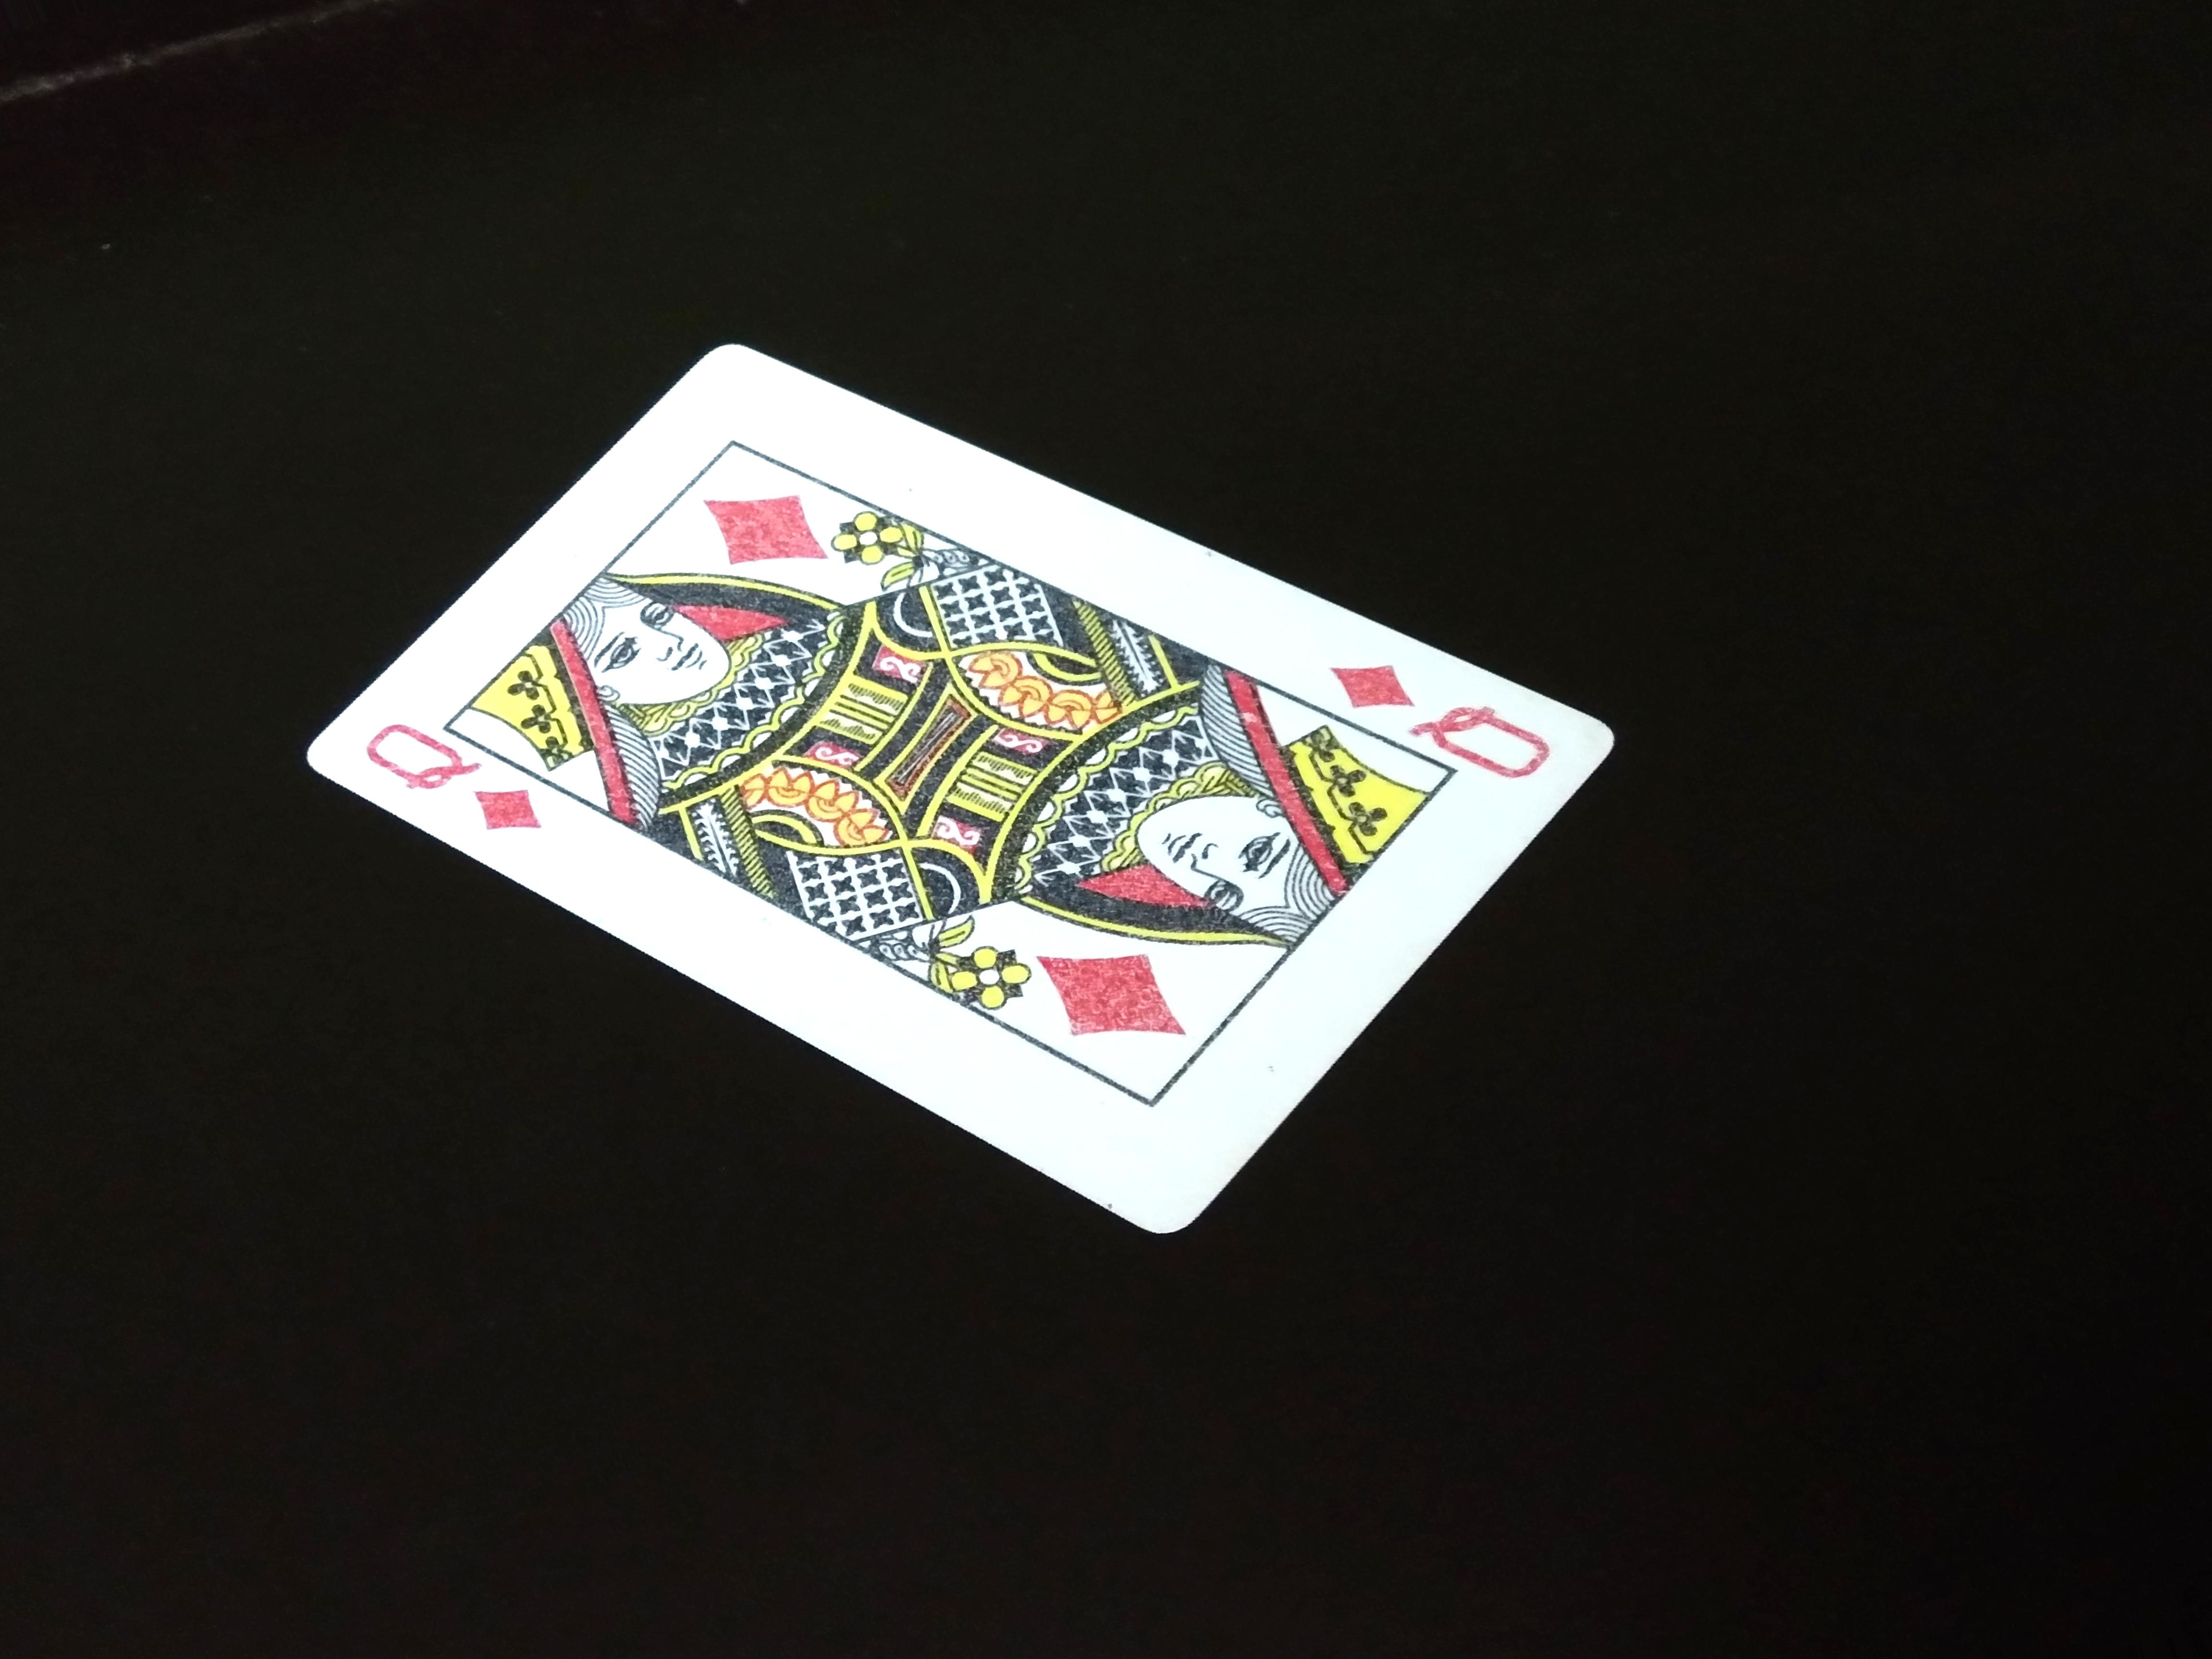QD: (1312, 624, 1545, 782)
